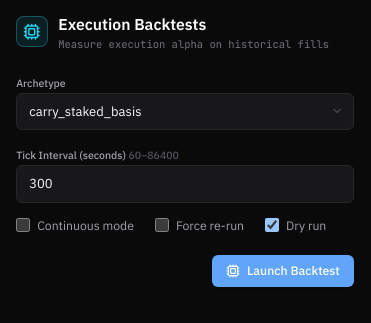
ExecutionBacktests › shows inline error when tick interval is below minimum
Replace the text in the number field with test id "tick-interval-input" with "30" at [185, 184], box [16, 165, 354, 202]
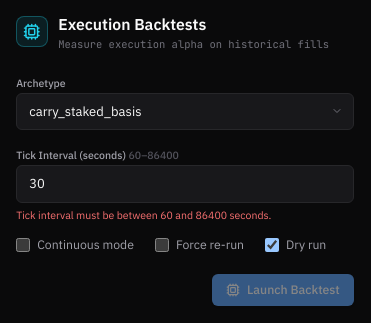
Result: the text "Tick interval must be between 60 and 86400 seconds." is shown at [16, 208, 271, 222]
